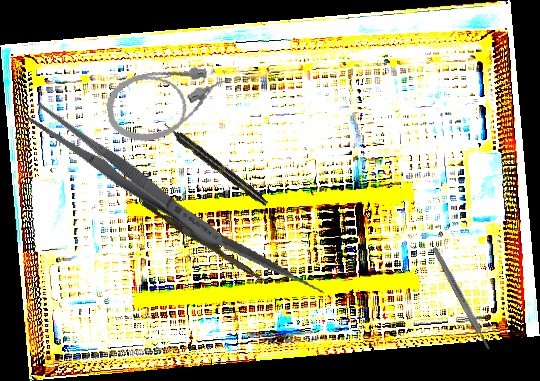Cannula: (101, 58, 236, 148)
Dressing Forceps: (24, 98, 230, 256)
Handpiece: (160, 119, 271, 209)
Pusher: (138, 199, 272, 285)
Scalpel Handle: (431, 246, 492, 351)
Spatula Surgical: (140, 154, 327, 340)
